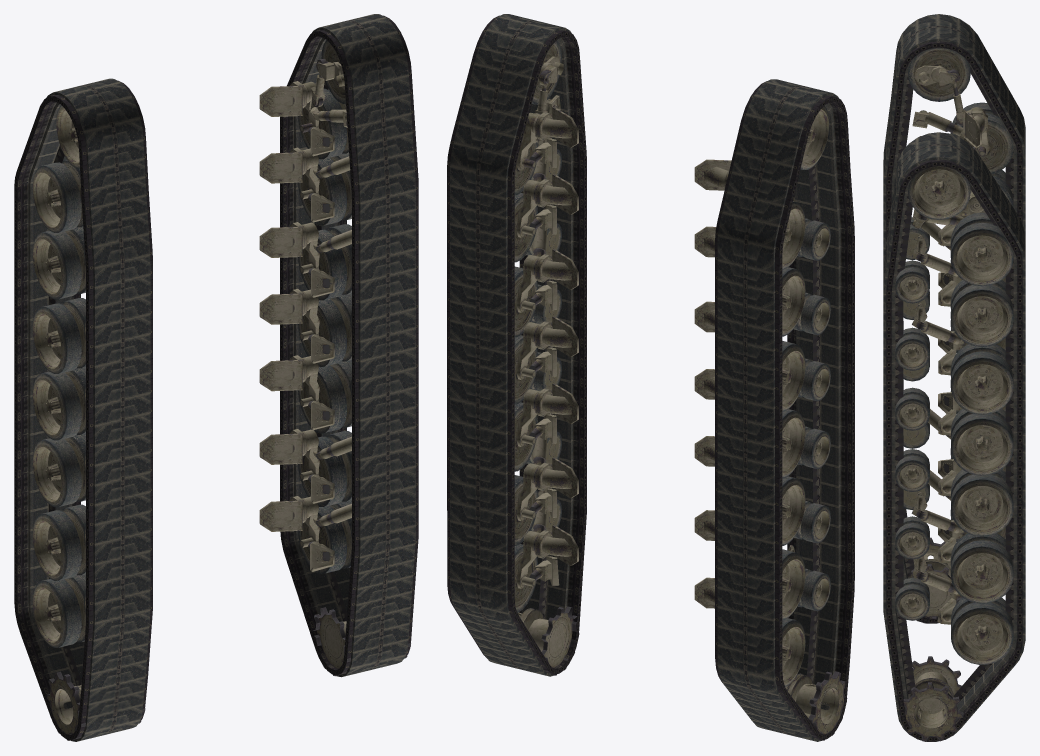
The model's file is Chassis.glb.
3 renders of one model, left to right at view 1: azimuth 30°, elevation 25°; view 2: azimuth 150°, elevation 25°; view 3: azimuth 270°, elevation 25°, orthographic. The views are drawn at different scales.
Parts seen in each view (by area): view 1: set_0_group_0, set_1_group_0, set_3_group_0, set_2_group_0; view 2: set_0_group_0, set_1_group_0, set_3_group_0, set_2_group_0; view 3: set_3_group_0, set_1_group_0, set_2_group_0, set_0_group_0.
Boxes of the visible parts, bbox=[...] form: set_0_group_0: bbox=[14, 78, 152, 741]; set_1_group_0: bbox=[280, 14, 418, 677]; set_3_group_0: bbox=[259, 40, 410, 676]; set_2_group_0: bbox=[32, 105, 145, 740]; set_0_group_0: bbox=[715, 79, 854, 741]; set_1_group_0: bbox=[447, 14, 586, 676]; set_3_group_0: bbox=[483, 40, 579, 675]; set_2_group_0: bbox=[694, 106, 847, 740]; set_3_group_0: bbox=[895, 166, 1013, 741]; set_1_group_0: bbox=[883, 132, 1025, 741]; set_2_group_0: bbox=[896, 47, 1013, 623]; set_0_group_0: bbox=[883, 14, 1025, 623].
Size of the model in its own units: 3.66 by 6.79 by 1.49.
Materials: 4 (4 with a texture image).
